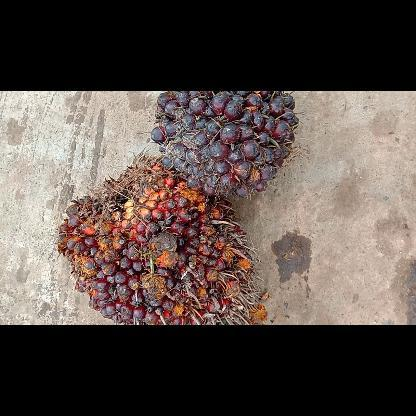TBS masak: (56, 149, 262, 323)
TBS mentah: (152, 90, 298, 198)
